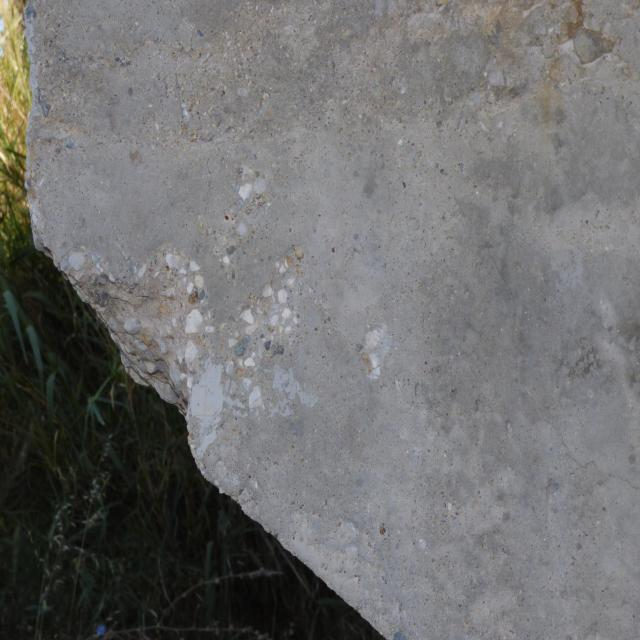concrete spalling: (54, 236, 312, 514), (357, 323, 393, 382)
diagonal crack: (452, 194, 640, 491)
vertical crack: (170, 28, 213, 220)
